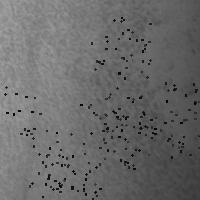pitted_surface: (73, 2, 185, 181), (91, 17, 149, 77), (93, 111, 152, 168), (27, 128, 85, 185), (143, 82, 200, 137), (99, 87, 151, 147), (80, 96, 138, 149), (42, 153, 99, 200), (0, 85, 39, 137), (167, 102, 200, 158)
